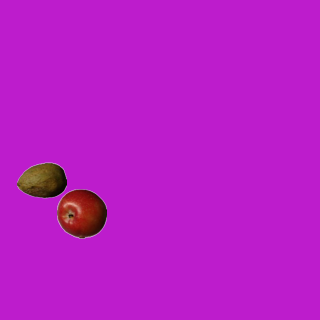Apple Braeburn: (56, 188, 106, 238)
Papaya: (16, 155, 66, 205)
